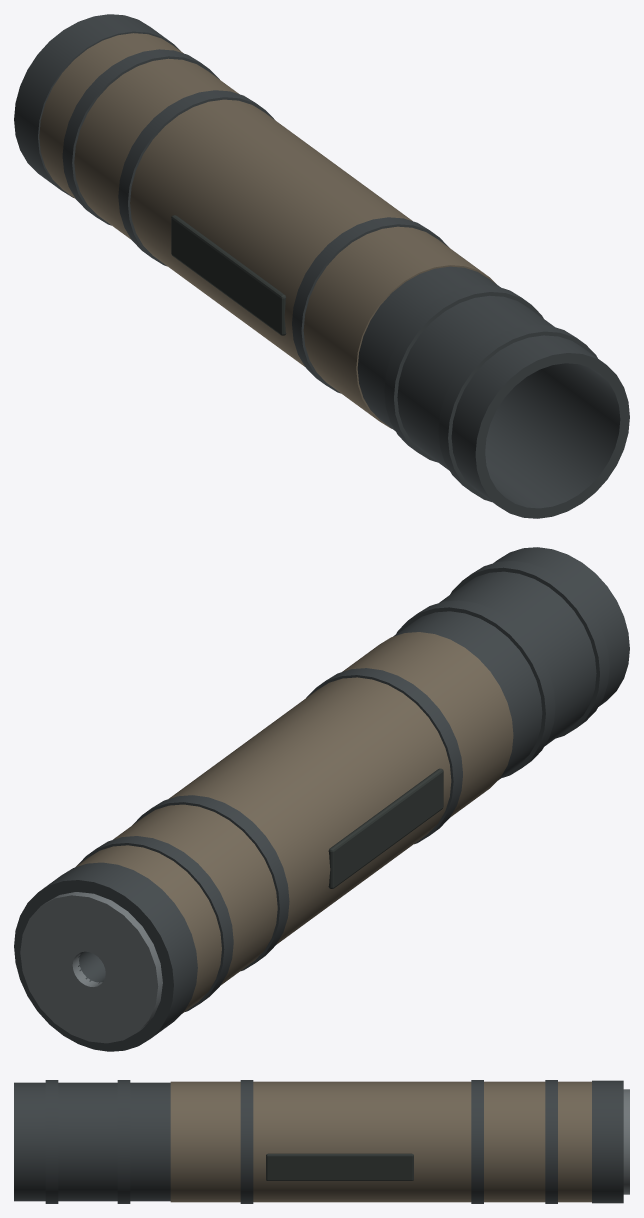
The model's file is suppressor.glb.
3 views of the same model, one above another, from view 1: azimuth 30°, elevation 25°; view 2: azimuth 150°, elevation 25°; view 3: azimuth 270°, elevation 25° (orthographic). The views are drawn at different scales.
Parts seen in each view (by area): view 1: suppressor_metal, suppressor_Bronze_shell, suppressor_polymer; view 2: suppressor_Bronze_shell, suppressor_metal, suppressor_Crown_lip, suppressor_polymer; view 3: suppressor_Bronze_shell, suppressor_metal, suppressor_polymer, suppressor_Crown_lip.
Boxes of the visible parts, bbox=[...] form: suppressor_metal: bbox=[14, 14, 629, 518]; suppressor_Bronze_shell: bbox=[39, 33, 495, 428]; suppressor_polymer: bbox=[171, 215, 286, 335]; suppressor_Bronze_shell: bbox=[75, 632, 513, 1013]; suppressor_metal: bbox=[14, 547, 629, 1051]; suppressor_Crown_lip: bbox=[20, 892, 162, 1043]; suppressor_polymer: bbox=[328, 768, 443, 888]; suppressor_Bronze_shell: bbox=[170, 1081, 591, 1202]; suppressor_metal: bbox=[14, 1080, 623, 1203]; suppressor_polymer: bbox=[266, 1153, 413, 1180]; suppressor_Crown_lip: bbox=[623, 1089, 629, 1194].
Size of the model in its own units: 0.059 by 0.0586 by 0.291.
